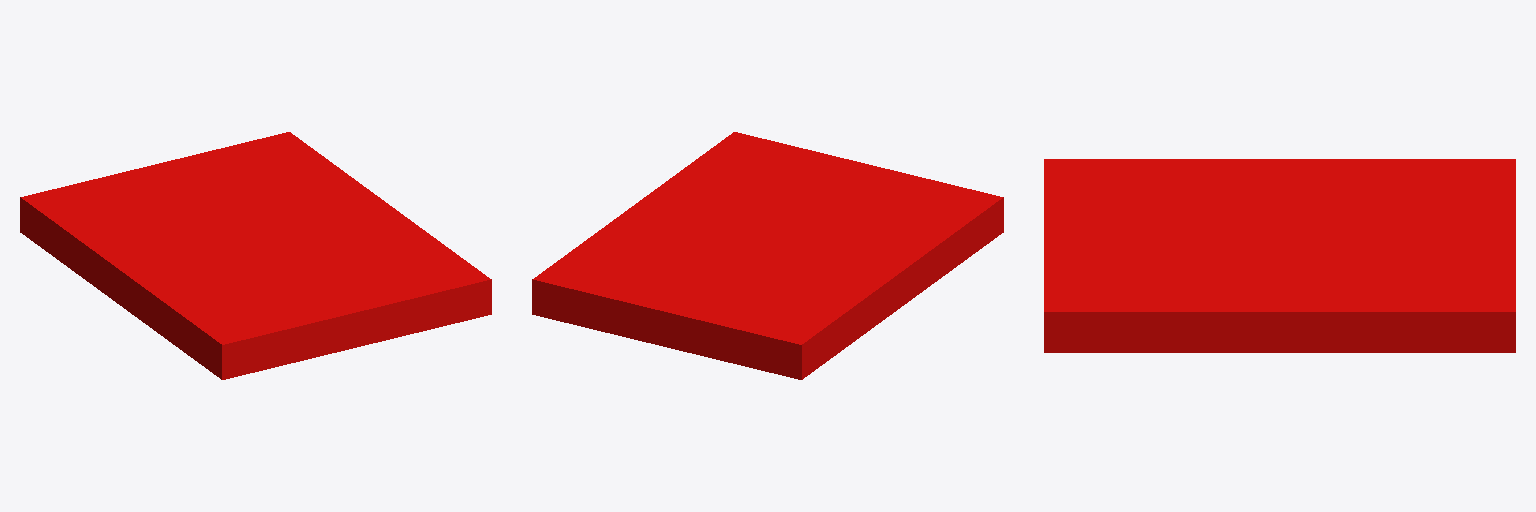
URDF robot description (puzzle_base):
<?xml version="1.0"?>
<robot name="puzzle_base">
  <material name="block_wood">
    <color rgba="0.93 0.086 0.071 1" />
  </material>
  <link name="base_link">
    <visual>
      <origin xyz="0 0 0" rpy="0.000000000000e+00 -0.000000000000e+00 0.000000000000e+00" />
      <geometry>
        <box size="0.4 0.52 0.05" />
      </geometry>
      <material name="block_wood"/>
    </visual>
    <collision>
      <origin xyz="0 0 0" rpy="0.000000000000e+00 -0.000000000000e+00 0.000000000000e+00" />
      <geometry>
        <box size="0.4 0.52 0.05" />
      </geometry>
    </collision>
    <inertial>
      <mass value="20.0" />
      <origin xyz="0 0 0" />
      <inertia ixx="1.0" ixy="0" ixz="0" iyy="1.0" iyz="0" izz="1.0" />
    </inertial>
  </link>
  <gazebo reference="base_link">
    <visual><material>
      <ambient>0.5 0.5 0.5 1</ambient>
      <diffuse>0.5 0.5 0.5 1</diffuse>
      <emmisive>0.2 0.2 0.2 1</emmisive>
    </material></visual>
  </gazebo>
  <!-- fixed to world -->
  <link name="world"/>
  <joint name="world_to_base_link" type="fixed">
    <parent link="world"/>
    <child  link="base_link"/>
  </joint>
</robot>

--- Render facts (derived) ---
The picture shows the robot from 3 angles, left to right: view 1: azimuth 30°, elevation 25°; view 2: azimuth 150°, elevation 25°; view 3: azimuth 270°, elevation 25°; orthographic projection.
Model puzzle_base with 2 links and 1 joints (1 fixed), rooted at world, posed all joints at 0.
Visible links, largest first — view 1: base_link; view 2: base_link; view 3: base_link.
Boxes of the visible links, bbox=[...] form: base_link: bbox=[20, 132, 491, 379]; base_link: bbox=[532, 132, 1003, 379]; base_link: bbox=[1044, 159, 1515, 352].
Bounding box of the posed robot: 0.4 × 0.52 × 0.05 m (x, y, z).
Geometry: primitives only (box / cylinder / sphere), no mesh files.